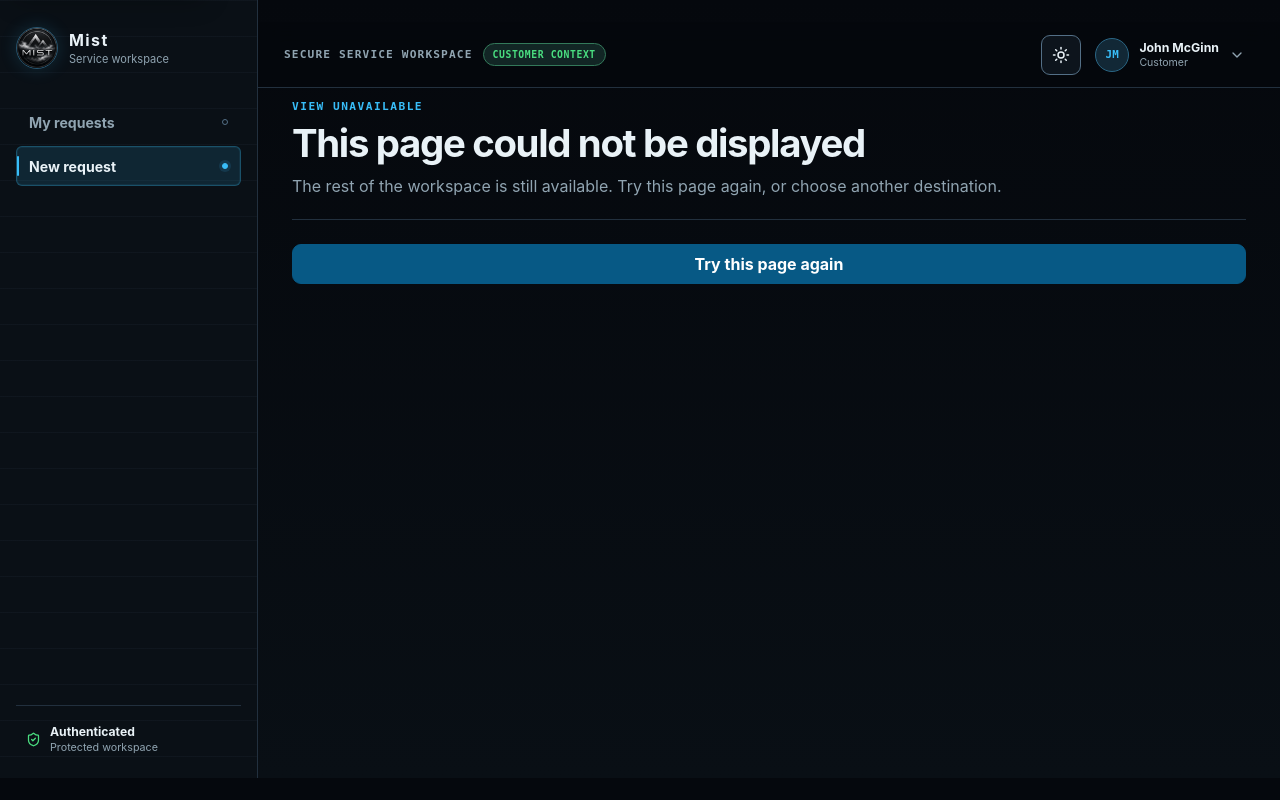
Test: workspace shell failure isolation › clears a page failure when the route changes
Expected: the heading "This page could not be displayed" is shown, [292,120,865,166]
Click the link "My requests".
click(72, 122)  # box [29,114,228,130]
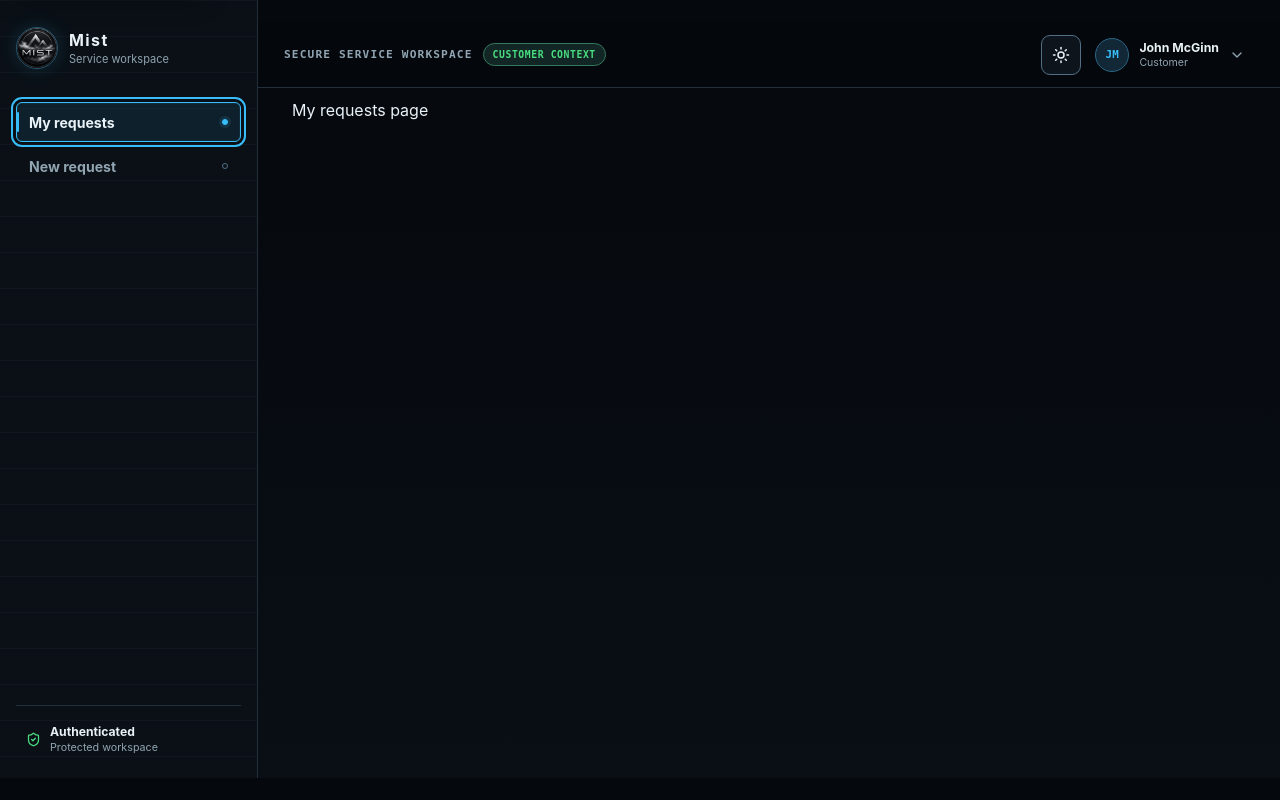
Now the text "My requests page" is shown, box [292,100,428,120]
Now the heading "This page could not be displayed" is gone
